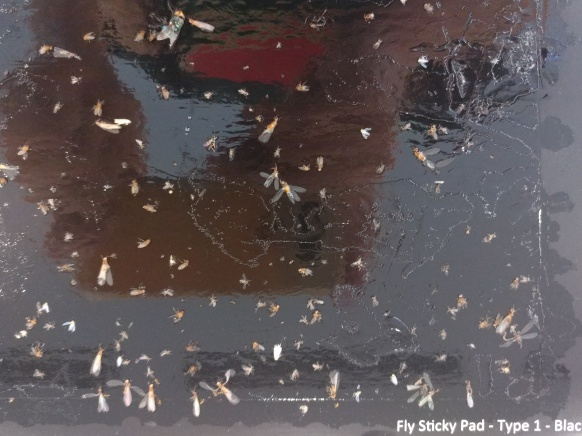flying termite: (201, 368, 241, 411), (271, 179, 310, 212), (254, 109, 285, 144), (79, 384, 111, 417), (412, 143, 445, 173), (503, 324, 539, 351), (106, 378, 141, 405), (138, 381, 162, 420), (94, 253, 118, 291), (460, 378, 481, 411), (323, 367, 343, 400), (91, 118, 132, 134), (89, 340, 108, 374), (186, 386, 204, 421), (258, 164, 282, 190)
